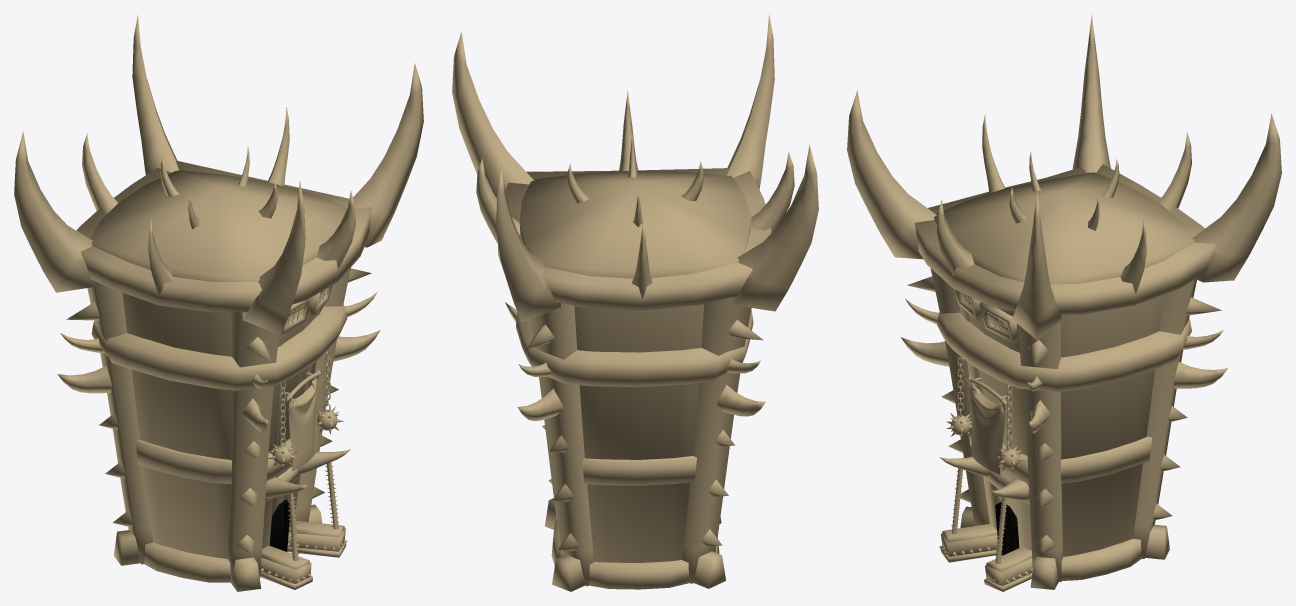
File: devil fortress perfect.fbx
3 views of the same model, side by side, from view 1: azimuth 30°, elevation 25°; view 2: azimuth 150°, elevation 25°; view 3: azimuth 270°, elevation 25° (orthographic). The views are drawn at different scales.
Parts seen in each view (by area): view 1: devil_006_low, devil_004_low, devil_005_low, devil_011_low, devil_009_low, devil_009_low003, devil_001_low002, devil_001_low, devil_001_low001, devil_023_low, devil_001_low003, devil_010_low003 (+15 smaller); view 2: devil_006_low, devil_004_low, devil_005_low, devil_009_low003, devil_009_low002, devil_011_low, devil_001_low002, devil_001_low, devil_001_low003, devil_023_low, devil_001_low001, devil_010_low003 (+6 smaller); view 3: devil_006_low, devil_004_low, devil_005_low, devil_011_low, devil_009_low001, devil_001_low003, devil_001_low001, devil_009_low002, devil_001_low, devil_001_low002, devil_009_low, devil_023_low (+16 smaller).
Boxes of the visible parts, <box> form: devil_006_low: <box>122,293,323,558</box>; devil_004_low: <box>90,170,347,281</box>; devil_005_low: <box>76,160,371,312</box>; devil_011_low: <box>91,305,347,390</box>; devil_009_low: <box>227,312,278,578</box>; devil_009_low003: <box>87,283,152,564</box>; devil_001_low002: <box>14,131,99,292</box>; devil_001_low: <box>344,63,423,247</box>; devil_001_low001: <box>242,180,305,335</box>; devil_023_low: <box>135,417,317,484</box>; devil_001_low003: <box>132,15,178,174</box>; devil_010_low003: <box>57,302,140,565</box>; devil_006_low: <box>574,304,703,562</box>; devil_004_low: <box>519,171,751,278</box>; devil_005_low: <box>498,168,771,310</box>; devil_009_low003: <box>682,298,751,583</box>; devil_009_low002: <box>530,303,594,586</box>; devil_011_low: <box>516,310,753,387</box>; devil_001_low002: <box>728,144,818,311</box>; devil_001_low: <box>452,31,533,197</box>; devil_001_low003: <box>496,162,560,322</box>; devil_023_low: <box>582,456,696,485</box>; devil_001_low001: <box>726,14,774,189</box>; devil_010_low003: <box>693,319,765,588</box>; devil_006_low: <box>959,294,1163,556</box>; devil_004_low: <box>934,172,1194,284</box>; devil_005_low: <box>915,164,1215,314</box>; devil_011_low: <box>937,312,1191,392</box>; devil_009_low001: <box>1017,320,1062,581</box>; devil_001_low003: <box>1192,113,1281,282</box>; devil_001_low001: <box>847,90,936,259</box>; devil_009_low002: <box>1133,279,1196,558</box>; devil_001_low: <box>1012,189,1061,340</box>; devil_001_low002: <box>1072,14,1110,172</box>; devil_009_low: <box>930,268,989,525</box>; devil_023_low: <box>969,423,1152,483</box>.
Size of the model in its own units: 103 by 116 by 103.
